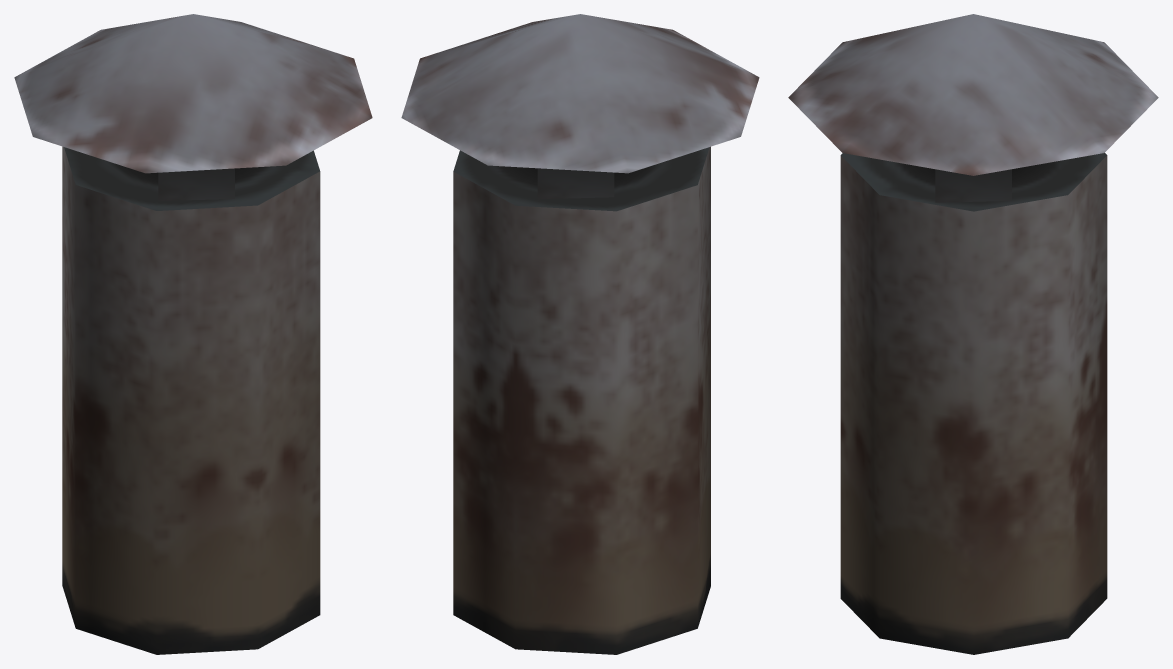
Rendered from chimney_roof06.fbx.
The picture shows the model from 3 angles, left to right: view 1: azimuth 30°, elevation 25°; view 2: azimuth 150°, elevation 25°; view 3: azimuth 270°, elevation 25°; orthographic projection.
Visible parts, largest first — view 1: chimney_roof06; view 2: chimney_roof06; view 3: chimney_roof06.
Boxes of the visible parts, box(x1,y1,x2,y2) form: chimney_roof06: box(14, 14, 372, 654); chimney_roof06: box(401, 14, 759, 654); chimney_roof06: box(788, 14, 1158, 654).
Size of the model in its own units: 57.35 by 100 by 57.35.
